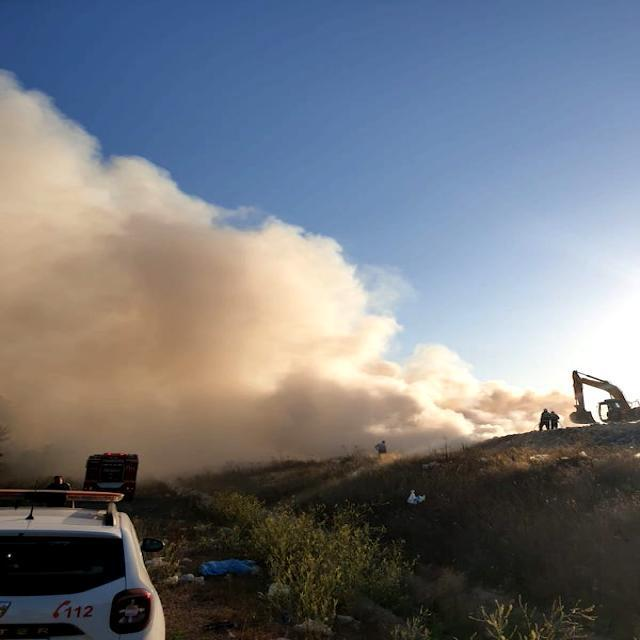Smoke: (0, 153, 480, 481)
